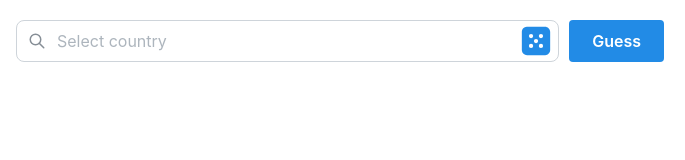
Scenario: <SelectCountry /> guess submission › records a wrong guess and keeps playing
The width and height of the screenshot is (685, 160).
In the field: (288, 41) x1=16 y1=20 x2=559 y2=62, type "Germany"
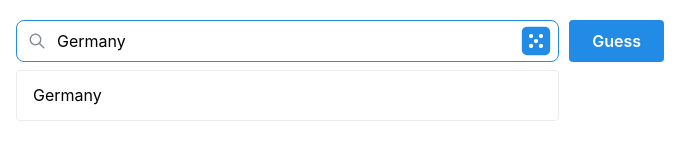
Click the button "Guess": (617, 41) x1=569 y1=20 x2=664 y2=62
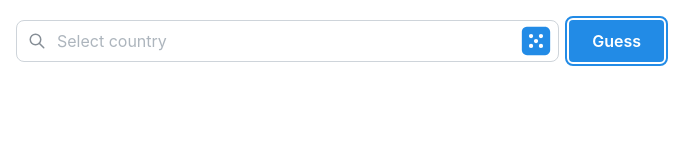
Result: the field is empty at x1=16 y1=20 x2=559 y2=62
